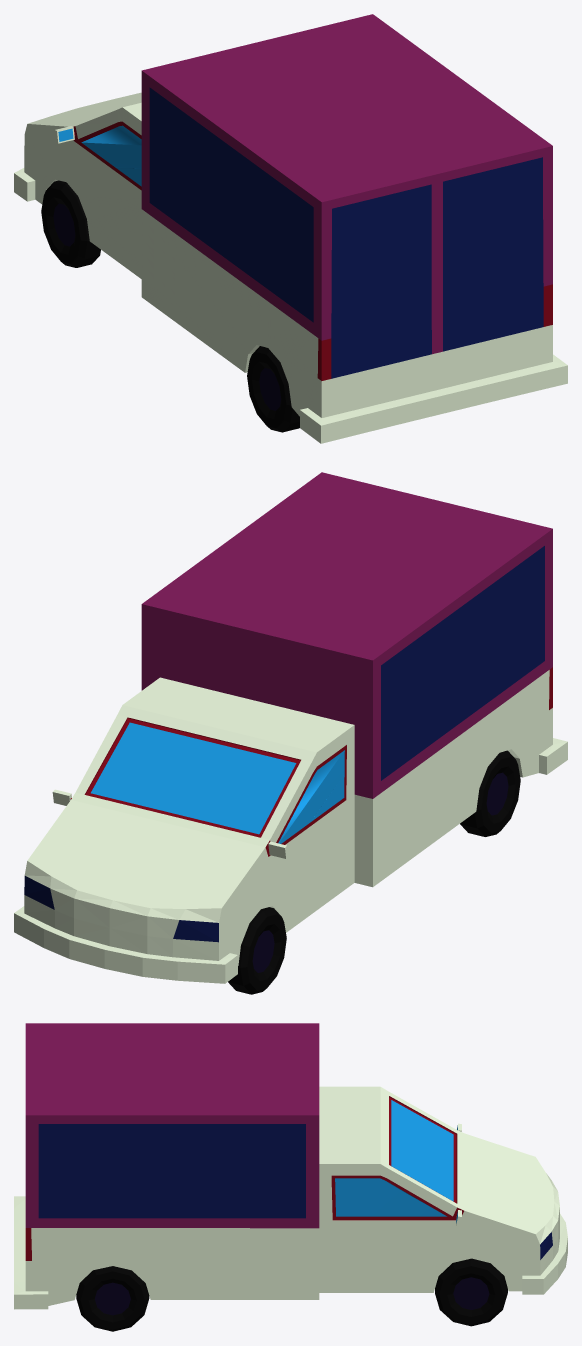
File: car_littletruck.obj
3 views of the same model, one above another, from view 1: azimuth 30°, elevation 25°; view 2: azimuth 150°, elevation 25°; view 3: azimuth 270°, elevation 25° (orthographic). The views are drawn at different scales.
Visible parts, largest first — view 1: body.005, tire, tire.001; view 2: body.005, tire, tire.001; view 3: body.005, tire, tire.001.
Boxes of the visible parts, bbox=[...] form: body.005: bbox=[14, 14, 567, 443]; tire: bbox=[41, 180, 100, 267]; tire.001: bbox=[247, 346, 299, 432]; body.005: bbox=[14, 472, 567, 983]; tire: bbox=[228, 907, 286, 994]; tire.001: bbox=[460, 750, 520, 836]; body.005: bbox=[14, 1023, 567, 1309]; tire: bbox=[435, 1258, 507, 1326]; tire.001: bbox=[76, 1266, 149, 1331].
Bounding box in the file's own units: 2.22 × 2.29 × 5.28.
